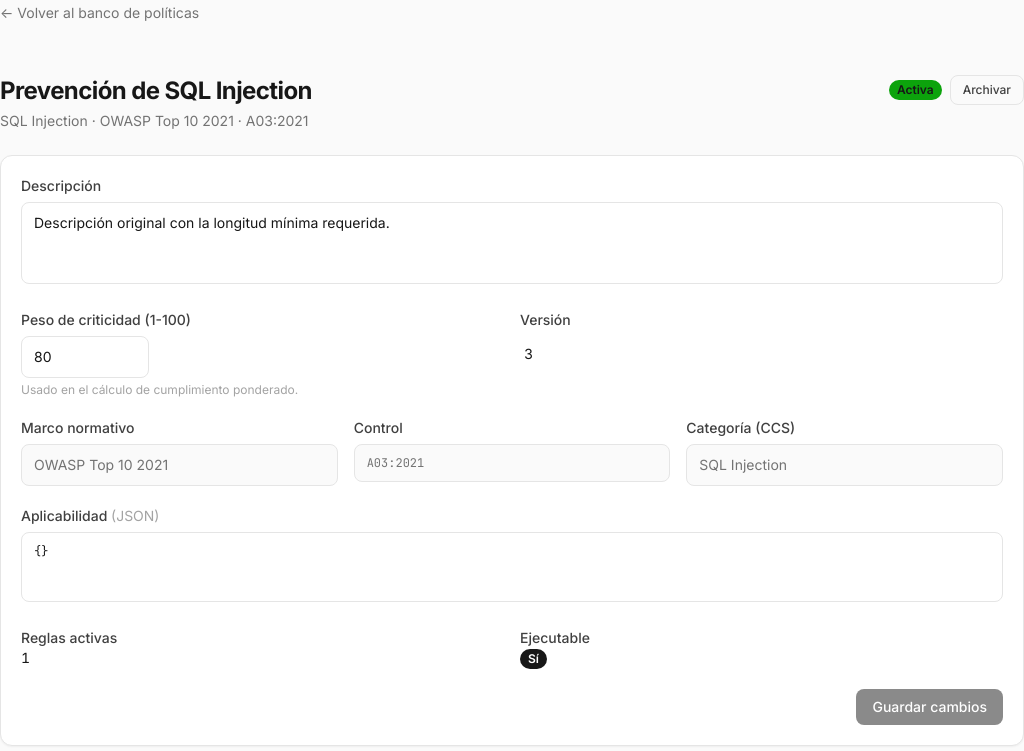
Scenario: PolicyDetailPage lifecycle UI › after archiving succeeds, the badge actually updates to Archivada (not stuck on Activa)
Check: the message named "estado: activa" is shown, box [889,80,942,100]
What coordinates should you click on to do the following:
click the button "Archivar"
I would click on:
 (987, 90)
Its box is [950,75,1023,105].
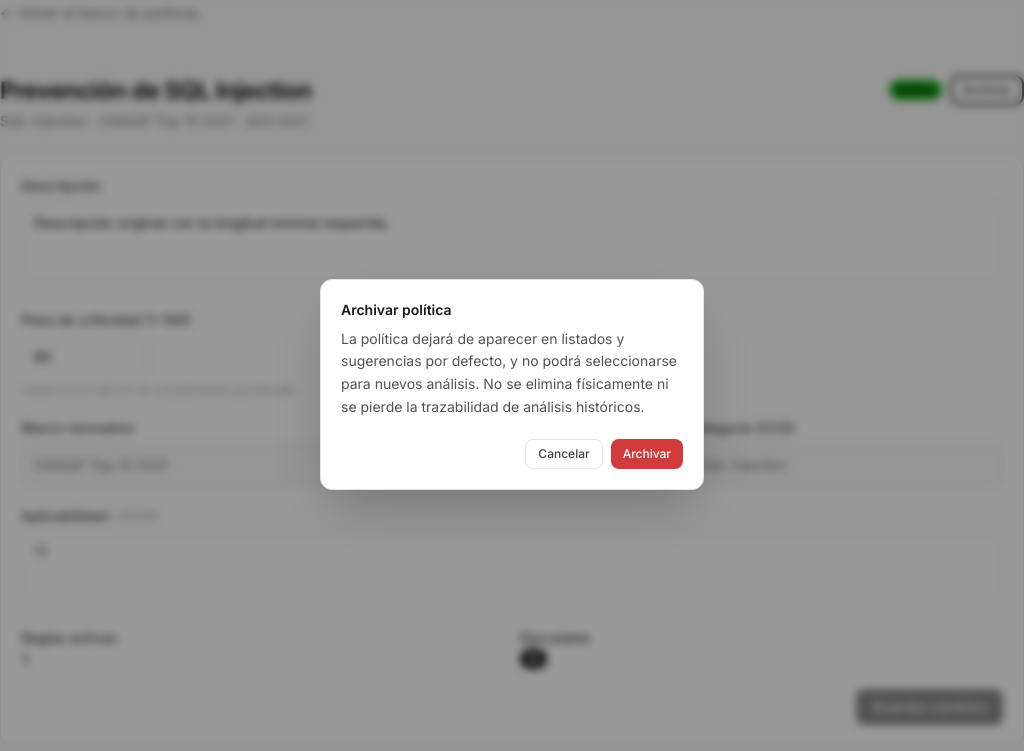
What coordinates should you click on to do the following:
click the button "Archivar"
I would click on:
 (647, 454)
Its box is [611,438,683,468].
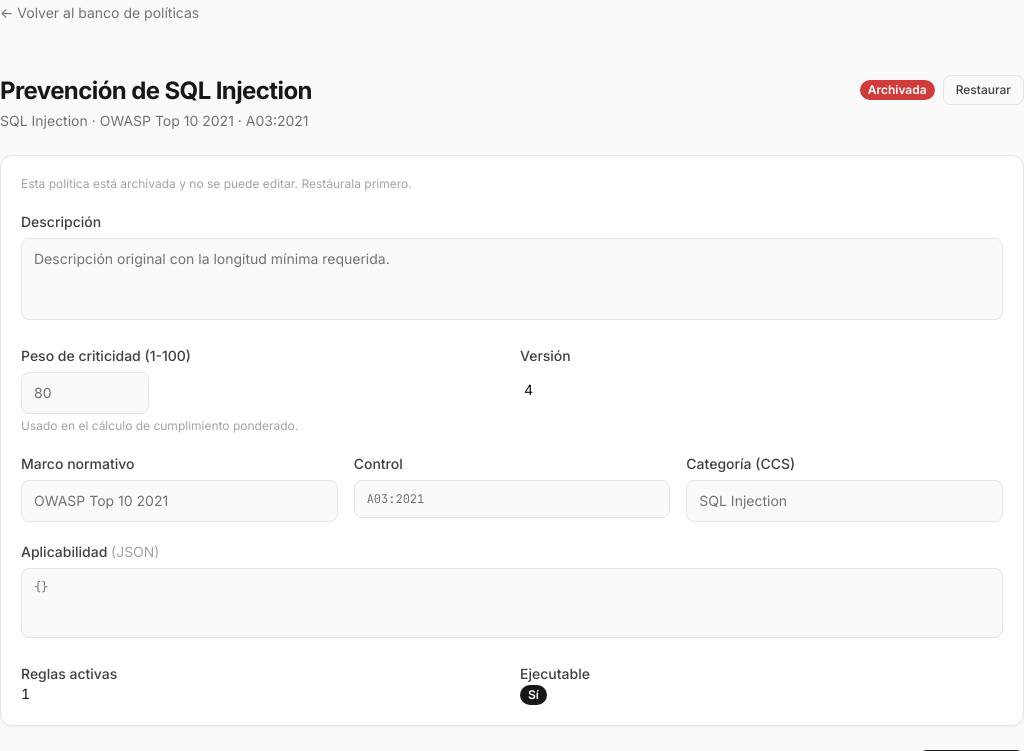
Check: the message named "estado: archivada" is shown, box [860,80,935,100]
Check: the button "Archivar" is gone
Check: the button "Restaurar" is shown, box [943,75,1023,105]
